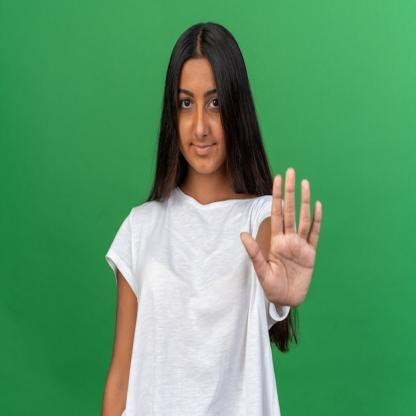stop: (237, 164, 327, 314)
